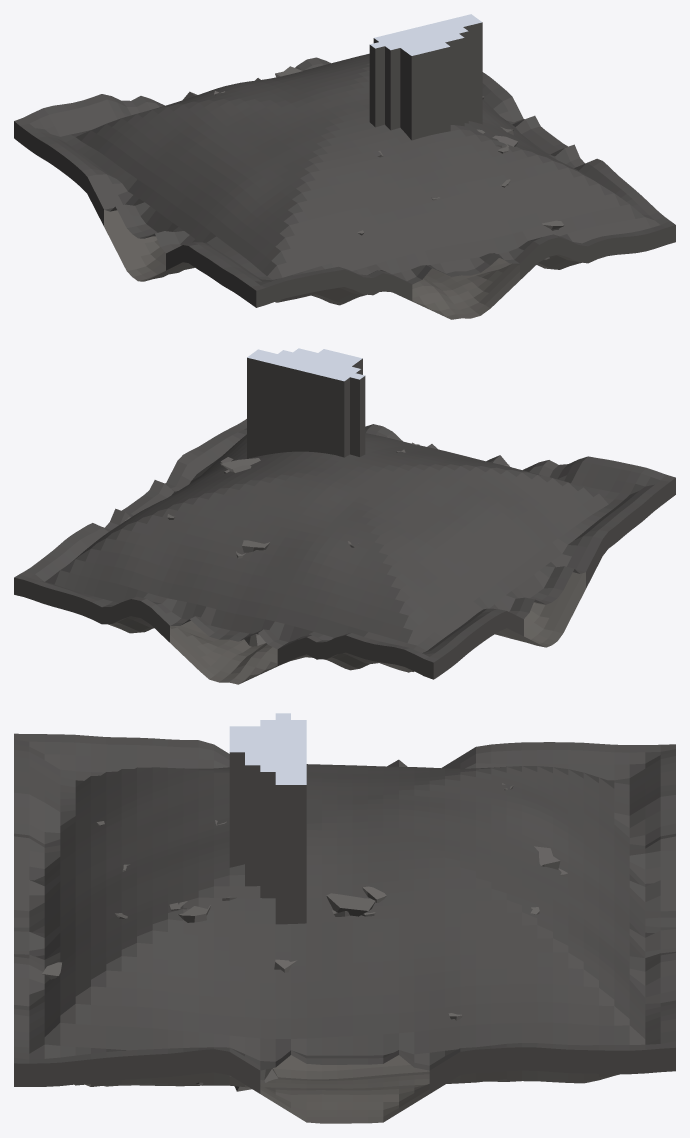
3 views of the same model, one above another, from view 1: azimuth 30°, elevation 25°; view 2: azimuth 150°, elevation 25°; view 3: azimuth 270°, elevation 25° (orthographic). The views are drawn at different scales.
Parts seen in each view (by area): view 1: CavernVault, CavernShaft, CavernWalls, CavernFloor, CavernSkyCap; view 2: CavernVault, CavernShaft, CavernWalls, CavernFloor, CavernSkyCap, CavernStalactites; view 3: CavernVault, CavernWalls, CavernFloor, CavernShaft, CavernSkyCap, CavernStalactites, CavernColumns.
Boxes of the visible parts, bbox=[...] form: CavernVault: bbox=[14, 53, 675, 290]; CavernShaft: bbox=[369, 22, 482, 140]; CavernWalls: bbox=[14, 121, 675, 307]; CavernFloor: bbox=[104, 210, 581, 319]; CavernSkyCap: bbox=[370, 14, 481, 55]; CavernVault: bbox=[14, 419, 675, 662]; CavernShaft: bbox=[247, 357, 365, 458]; CavernWalls: bbox=[14, 478, 675, 679]; CavernFloor: bbox=[108, 572, 585, 684]; CavernSkyCap: bbox=[247, 348, 364, 381]; CavernStalactites: bbox=[125, 442, 509, 558]; CavernVault: bbox=[14, 733, 675, 1070]; CavernWalls: bbox=[14, 1047, 675, 1093]; CavernFloor: bbox=[74, 1055, 619, 1123]; CavernShaft: bbox=[229, 752, 306, 924]; CavernSkyCap: bbox=[229, 713, 306, 784]; CavernStalactites: bbox=[42, 783, 568, 1020]; CavernColumns: bbox=[178, 846, 560, 922].
Size of the model in its own units: 92 by 44.56 by 92.
